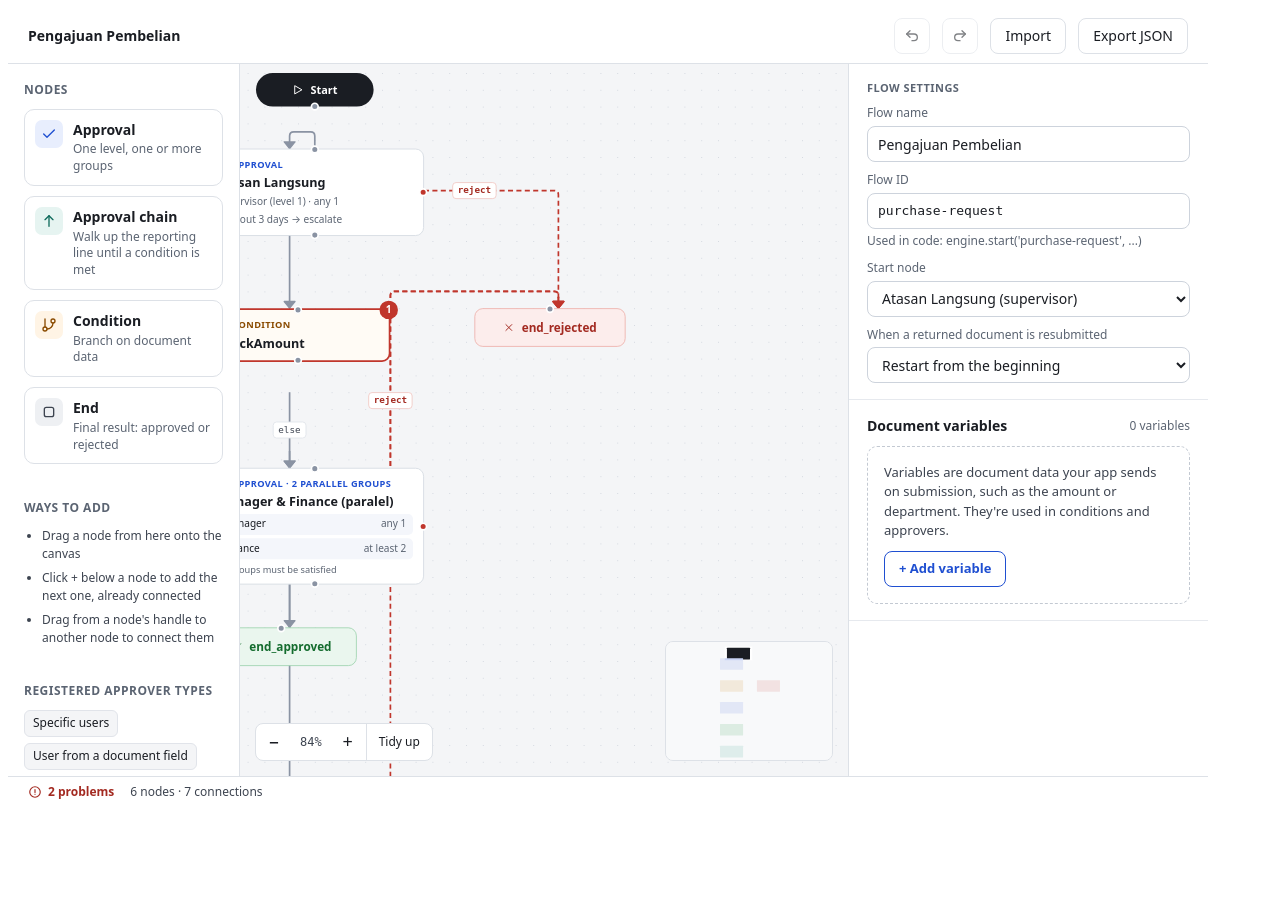
condition panel › opens a condition whose rules are not a list
Click the element with test id "node-checkAmount" at (298, 335), box left=206, top=308, right=390, bottom=362
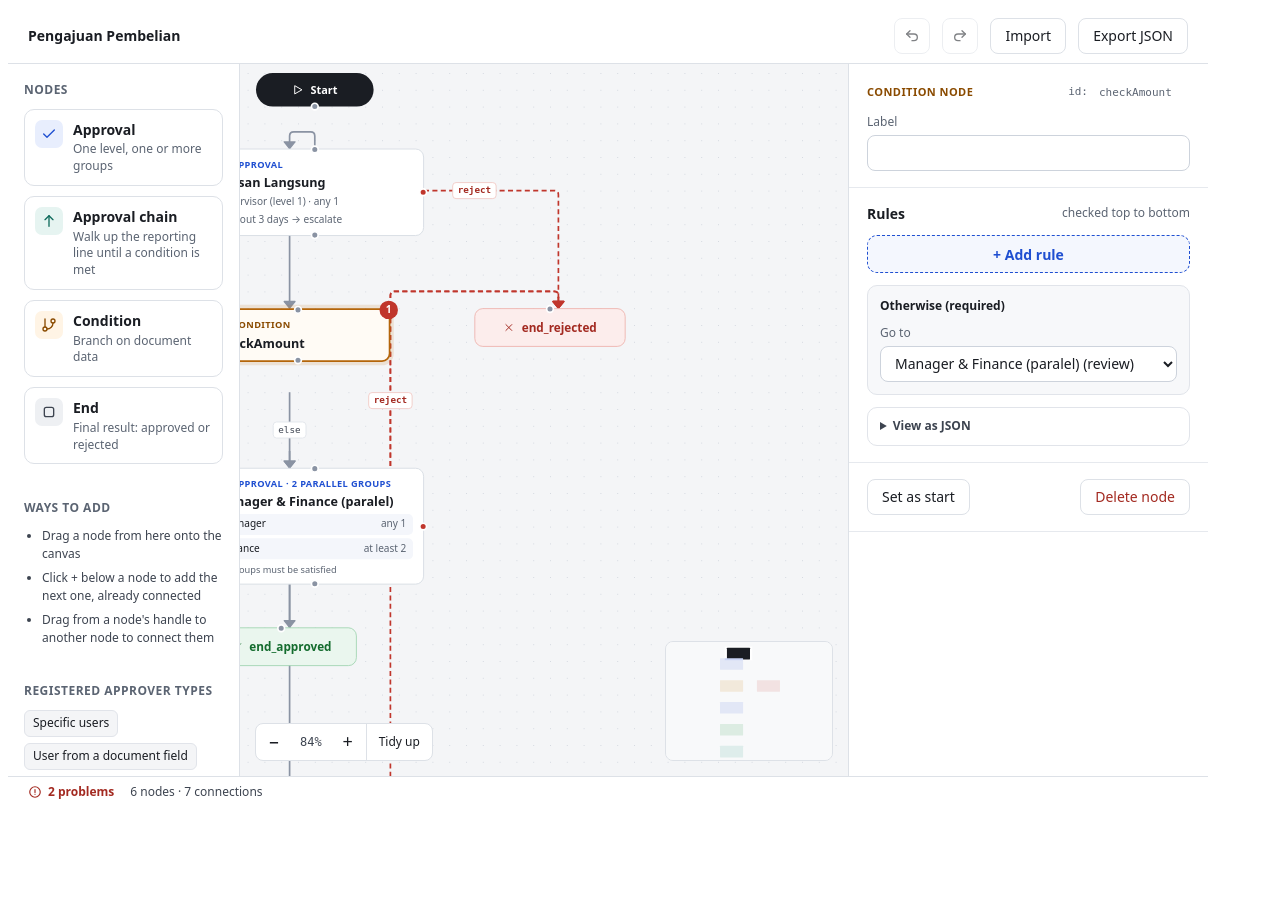
expect the field named "Node ID" holds "checkAmount": met, box left=1092, top=80, right=1190, bottom=104
